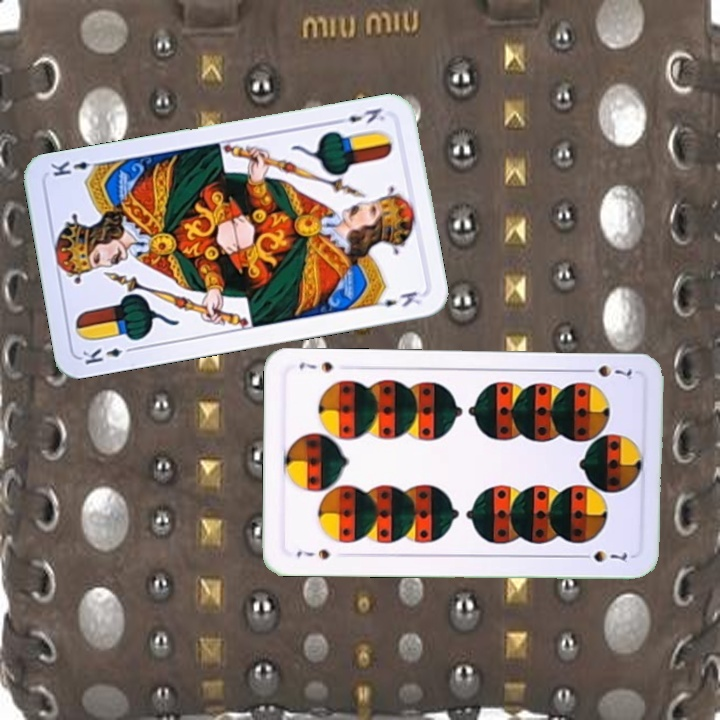EK: (78, 343, 138, 367), (332, 104, 388, 127)
S7: (578, 361, 635, 382), (292, 545, 333, 562)
